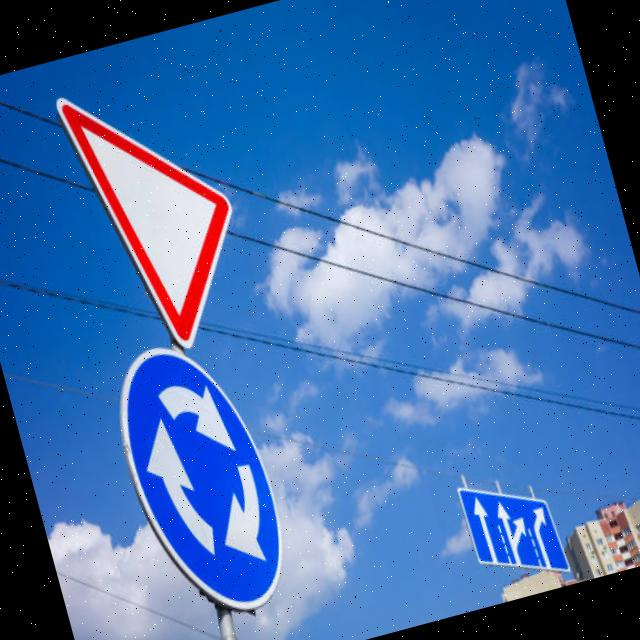give_way: (54, 51, 273, 366)
